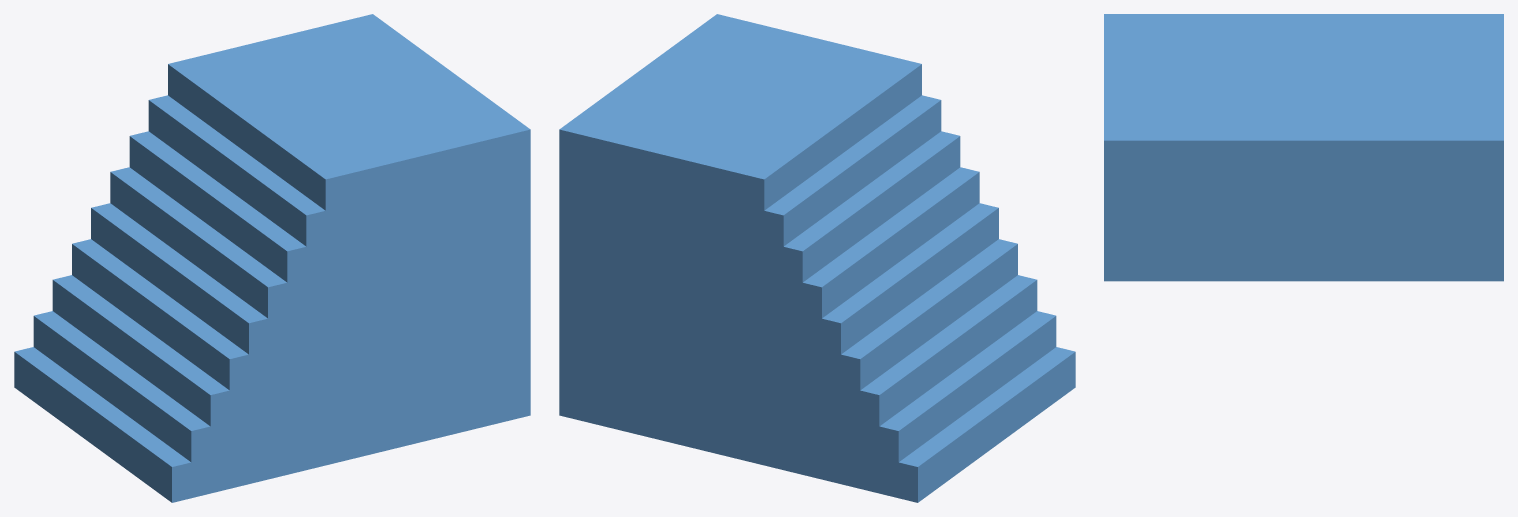
The model's file is BaseBlock_EdgeStairs_Mesh.fbx.
The picture shows the model from 3 angles, left to right: view 1: azimuth 30°, elevation 25°; view 2: azimuth 150°, elevation 25°; view 3: azimuth 270°, elevation 25°; orthographic projection. The views are drawn at different scales.
Parts seen in each view (by area): view 1: BaseBlock_EdgeStairs; view 2: BaseBlock_EdgeStairs; view 3: BaseBlock_EdgeStairs.
Part boxes in pixels (<box>): BaseBlock_EdgeStairs: <box>14,14,530,502</box>; BaseBlock_EdgeStairs: <box>559,14,1075,502</box>; BaseBlock_EdgeStairs: <box>1104,14,1503,281</box>.
Size of the model in its own units: 262 by 200 by 200.
